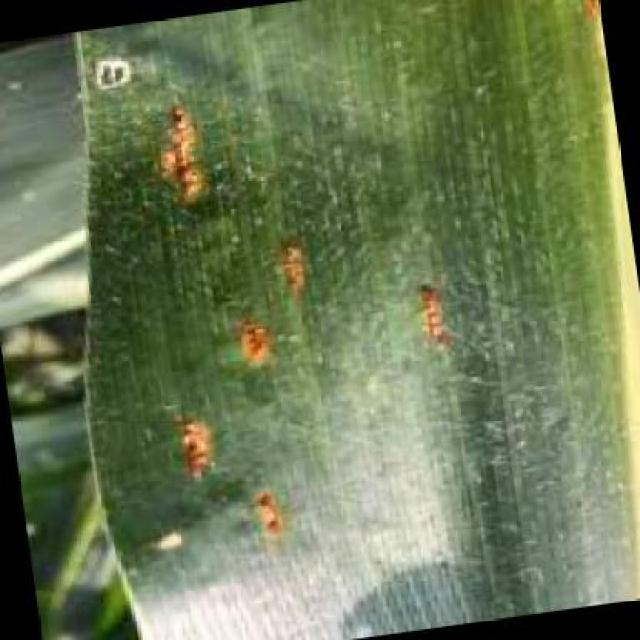Corn_Rust: (71, 66, 571, 611)
